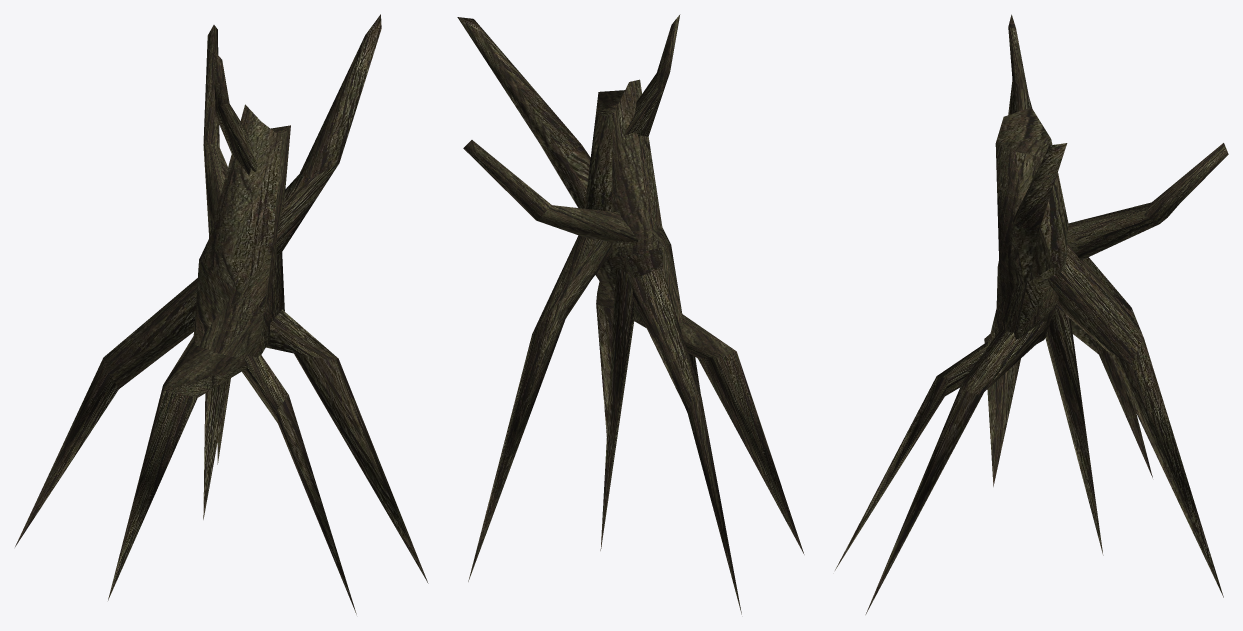
The model's file is OW_LOB_DEADTREE_06.glb.
3 views of the same model, side by side, from view 1: azimuth 30°, elevation 25°; view 2: azimuth 150°, elevation 25°; view 3: azimuth 270°, elevation 25° (orthographic). The views are drawn at different scales.
Visible parts, largest first — view 1: Mesh; view 2: Mesh; view 3: Mesh.
Part boxes in pixels (x1=…): Mesh: x1=15, y1=14, x2=428, y2=614; Mesh: x1=457, y1=14, x2=804, y2=614; Mesh: x1=835, y1=14, x2=1228, y2=614.
Size of the model in its own units: 12.35 by 18.76 by 12.67.
1 material, 1 textured.
